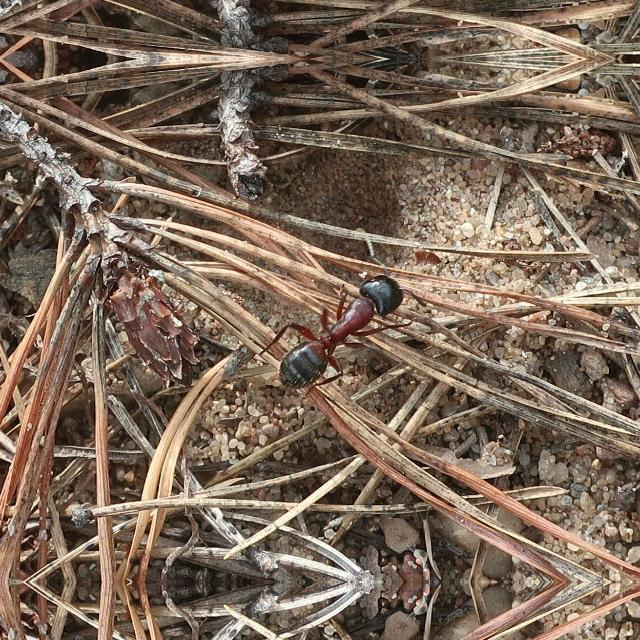Camponotus: (256, 256, 434, 406)
